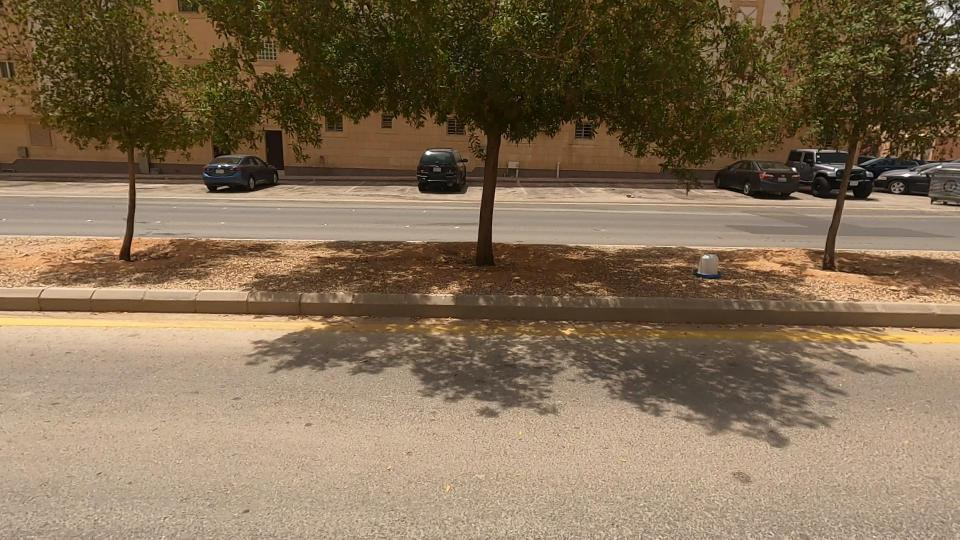CLUTTER_SIDEWALK: (79, 203, 563, 321), (435, 215, 894, 330)
GARBAGE: (672, 216, 755, 310)
